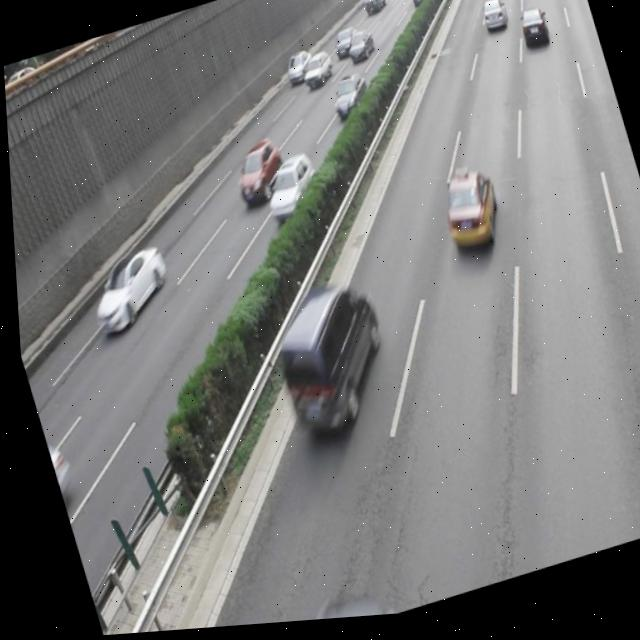car: (77, 241, 176, 338), (428, 170, 503, 262), (223, 137, 288, 211), (254, 154, 321, 225), (323, 74, 372, 128)
truck: (254, 277, 397, 449)
